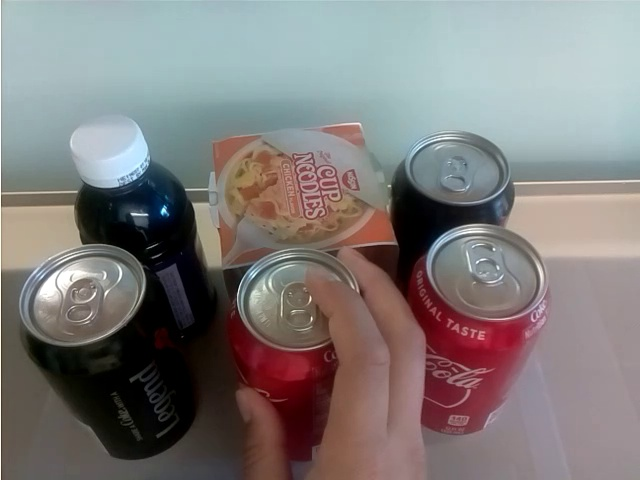cocacola: (15, 243, 203, 462), (403, 224, 551, 439), (222, 248, 361, 466), (390, 132, 517, 226)
hand: (237, 248, 425, 480)
juice: (67, 116, 214, 351)
noodles: (204, 118, 405, 282)
